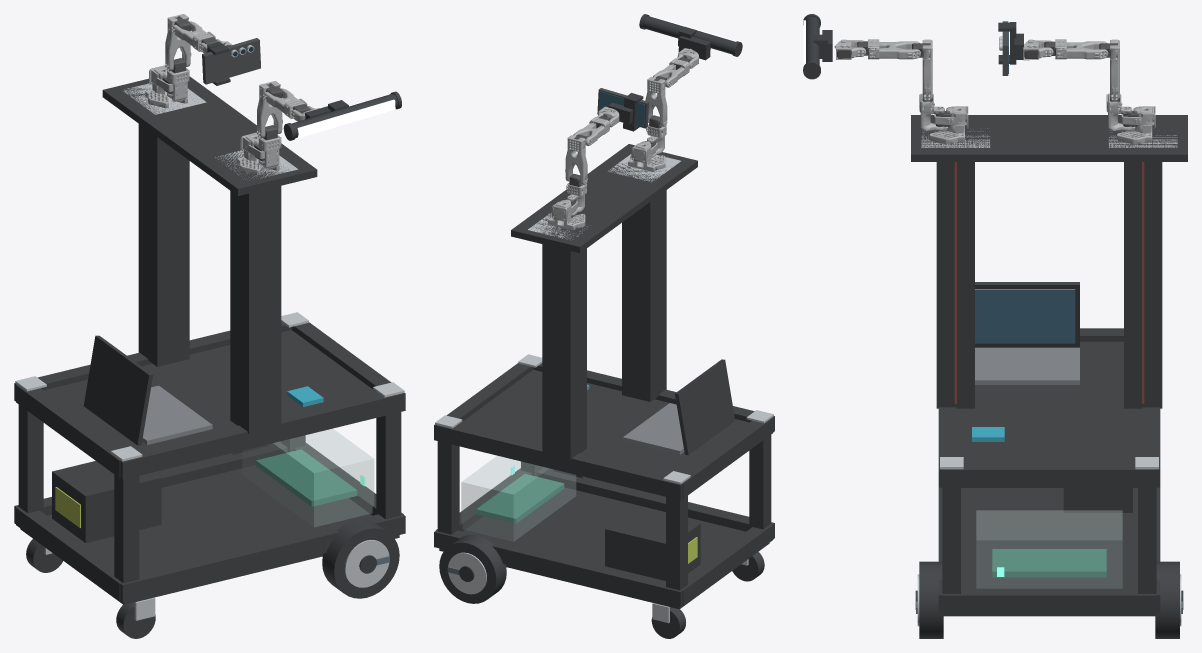
File: take-one-tube.glb
3 views of the same model, side by side, from view 1: azimuth 30°, elevation 25°; view 2: azimuth 150°, elevation 25°; view 3: azimuth 270°, elevation 25° (orthographic). The views are drawn at different scales.
Visible parts, largest first — view 1: cart_box, upright_rear, upright_front, cart_work_deck, electronics_box, cart_deck, frame_side_0.25_0.49, frame_side_0.25_0.15, battery, laptop_lid, frame_end_-0.39_0.49, frame_end_-0.39_0.15 (+23 smaller); view 2: upright_front, cart_work_deck, upright_rear, cart_box, cart_deck, electronics_box, frame_side_-0.25_0.49, frame_side_-0.25_0.15, battery, laptop_lid, frame_side_0.25_0.15, frame_end_-0.39_0.15 (+21 smaller); view 3: cart_work_deck, cart_box, electronics_box, cart_deck, upright_front, upright_rear, laptop_screen, frame_end_0.39_0.15, frame_end_0.39_0.49, laptop_keyboard, electronics_board, corner_leg_-0.24_0.38 (+20 smaller).
Boxes of the visible parts, x1=… form: cart_box: x1=20, y1=465, x2=399, y2=604; upright_rear: x1=230, y1=186, x2=281, y2=433; upright_front: x1=138, y1=124, x2=189, y2=366; cart_work_deck: x1=44, y1=330, x2=375, y2=450; electronics_box: x1=242, y1=429, x2=373, y2=527; cart_deck: x1=102, y1=76, x2=317, y2=196; frame_side_0.25_0.49: x1=115, y1=392, x2=405, y2=479; frame_side_0.25_0.15: x1=114, y1=513, x2=405, y2=602; battery: x1=52, y1=461, x2=161, y2=542; laptop_lid: x1=83, y1=335, x2=152, y2=445; frame_end_-0.39_0.49: x1=16, y1=385, x2=121, y2=477; frame_end_-0.39_0.15: x1=16, y1=507, x2=120, y2=600; upright_front: x1=542, y1=244, x2=586, y2=460; cart_work_deck: x1=460, y1=369, x2=748, y2=474; upright_rear: x1=622, y1=190, x2=666, y2=401; cart_box: x1=439, y1=487, x2=769, y2=609; cart_deck: x1=511, y1=144, x2=697, y2=253; electronics_box: x1=461, y1=456, x2=575, y2=541; frame_side_-0.25_0.49: x1=434, y1=424, x2=687, y2=500; frame_side_-0.25_0.15: x1=434, y1=529, x2=682, y2=607; battery: x1=605, y1=507, x2=700, y2=580; laptop_lid: x1=675, y1=359, x2=735, y2=455; frame_side_0.25_0.15: x1=536, y1=467, x2=774, y2=538; frame_end_-0.39_0.15: x1=681, y1=524, x2=773, y2=605; cart_work_deck: x1=956, y1=341, x2=1142, y2=462; cart_box: x1=943, y1=488, x2=1155, y2=616; electronics_box: x1=976, y1=510, x2=1122, y2=588; cart_deck: x1=911, y1=115, x2=1187, y2=161; upright_front: x1=1124, y1=162, x2=1162, y2=408; upright_rear: x1=936, y1=162, x2=974, y2=408; laptop_screen: x1=975, y1=289, x2=1075, y2=343; frame_end_0.39_0.15: x1=943, y1=588, x2=1155, y2=613; frame_end_0.39_0.49: x1=943, y1=462, x2=1155, y2=487; laptop_keyboard: x1=975, y1=347, x2=1079, y2=384; electronics_board: x1=992, y1=549, x2=1106, y2=577; corner_leg_-0.24_0.38: x1=1138, y1=487, x2=1156, y2=593.
Size of the model in its own units: 0.824 by 1.52 by 0.9452.
